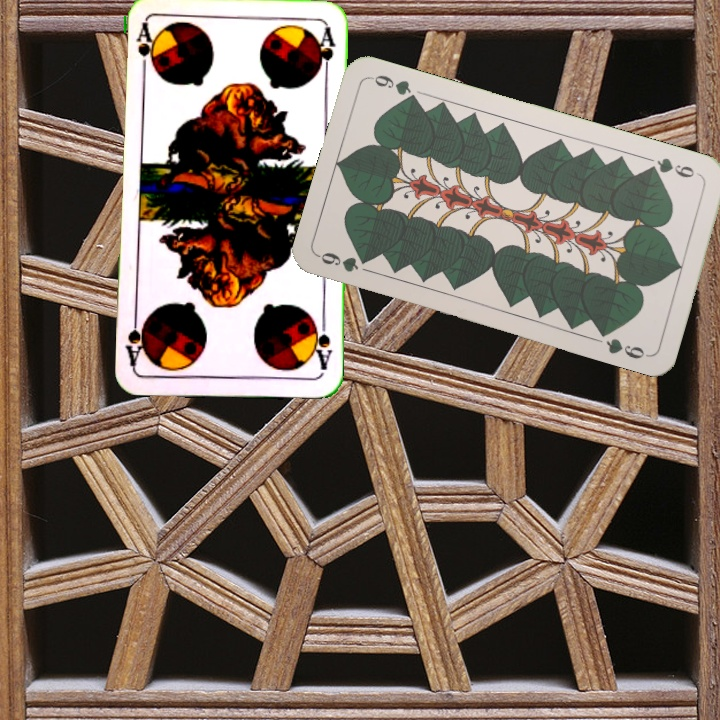G9: (315, 248, 372, 275), (643, 154, 697, 181)
SA: (308, 314, 335, 373), (132, 20, 156, 80)
